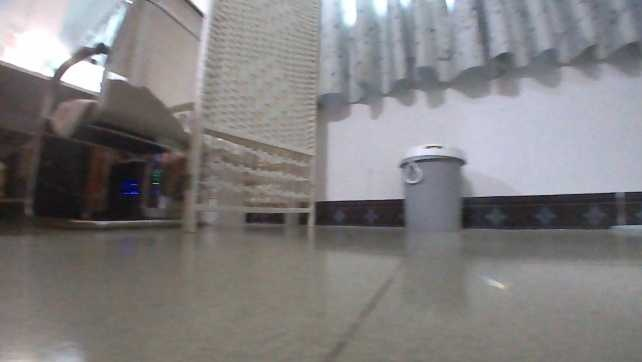toilet: (21, 200, 210, 229)
trash_can: (398, 141, 466, 231)
